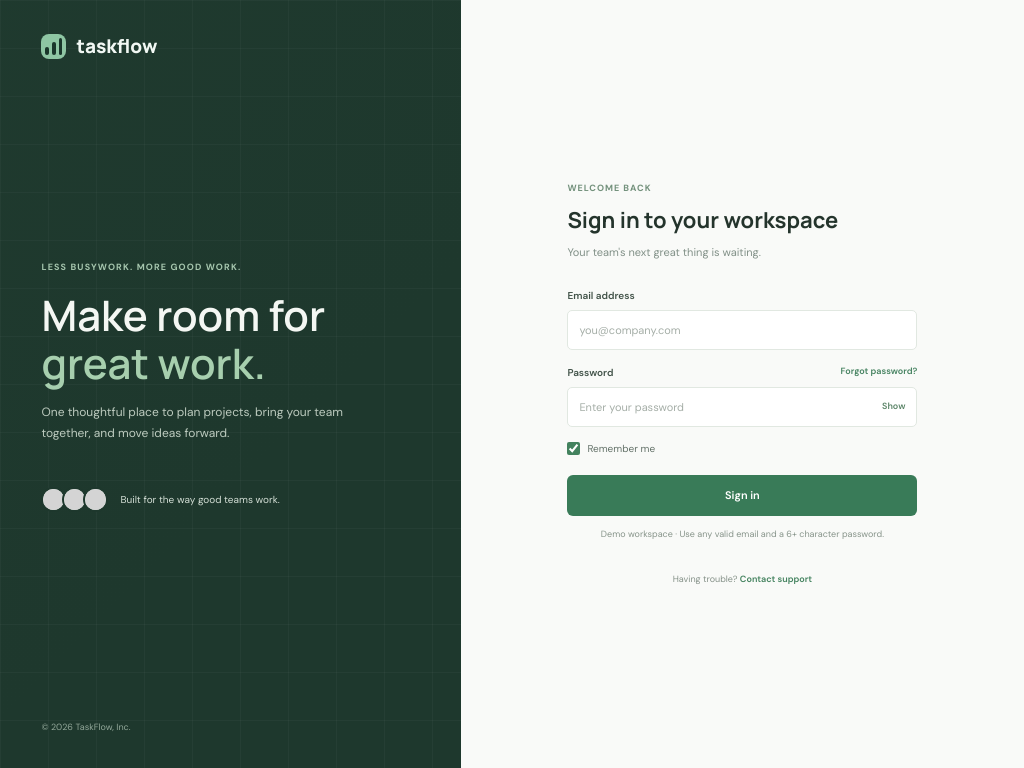
Test case: login flow › rejects an invalid email address
The image size is (1024, 768).
Type "not-an-email" into the field labelled "Email address" at [742, 330], box [567, 310, 917, 350]
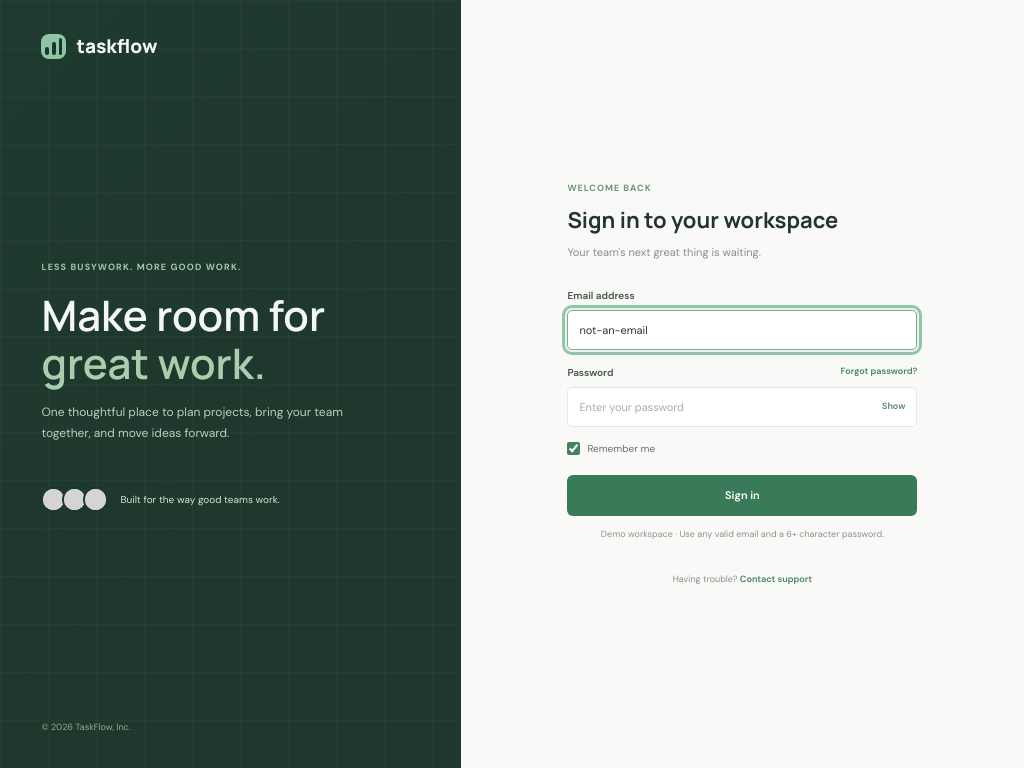
Type "password123" into the password field labelled "Password" at [720, 406], box [568, 388, 871, 426]
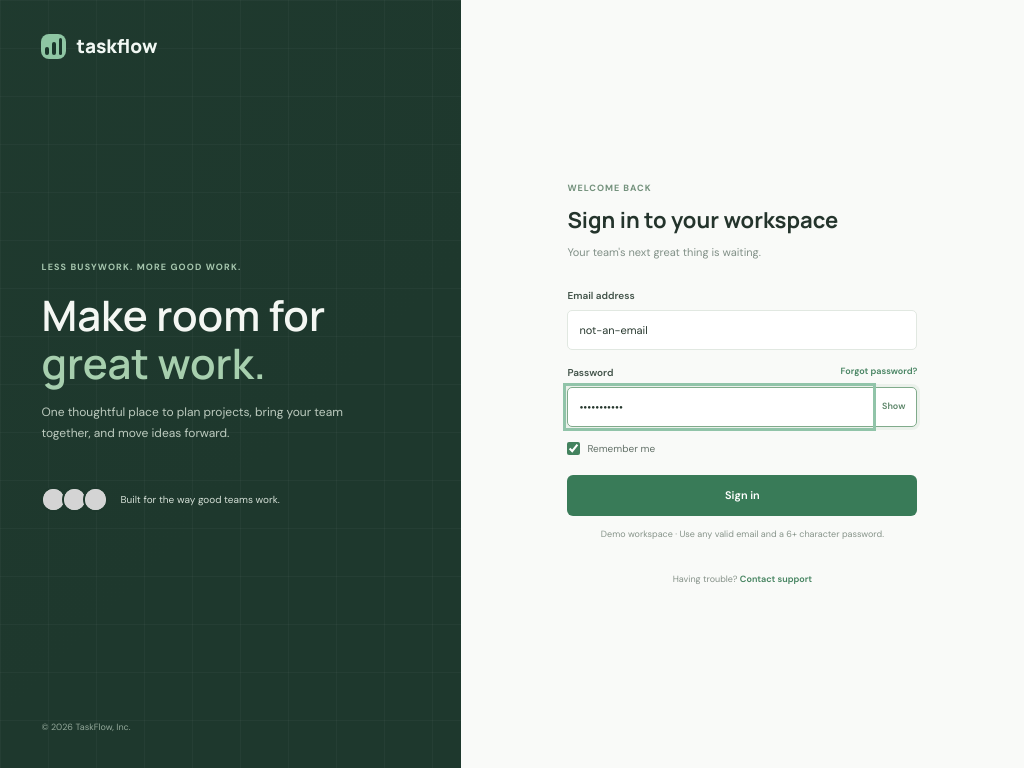
Click the button "Sign in" at [742, 495], box [567, 474, 917, 516]
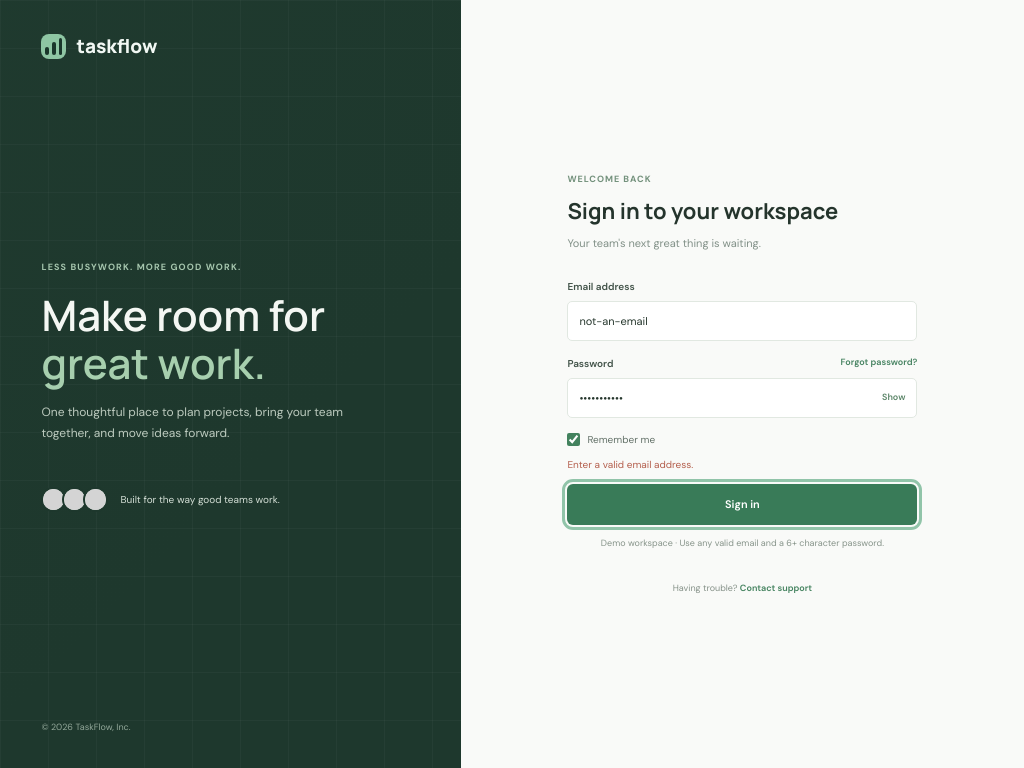
Now the message reads "Enter a valid email address.", box [567, 458, 693, 470]
